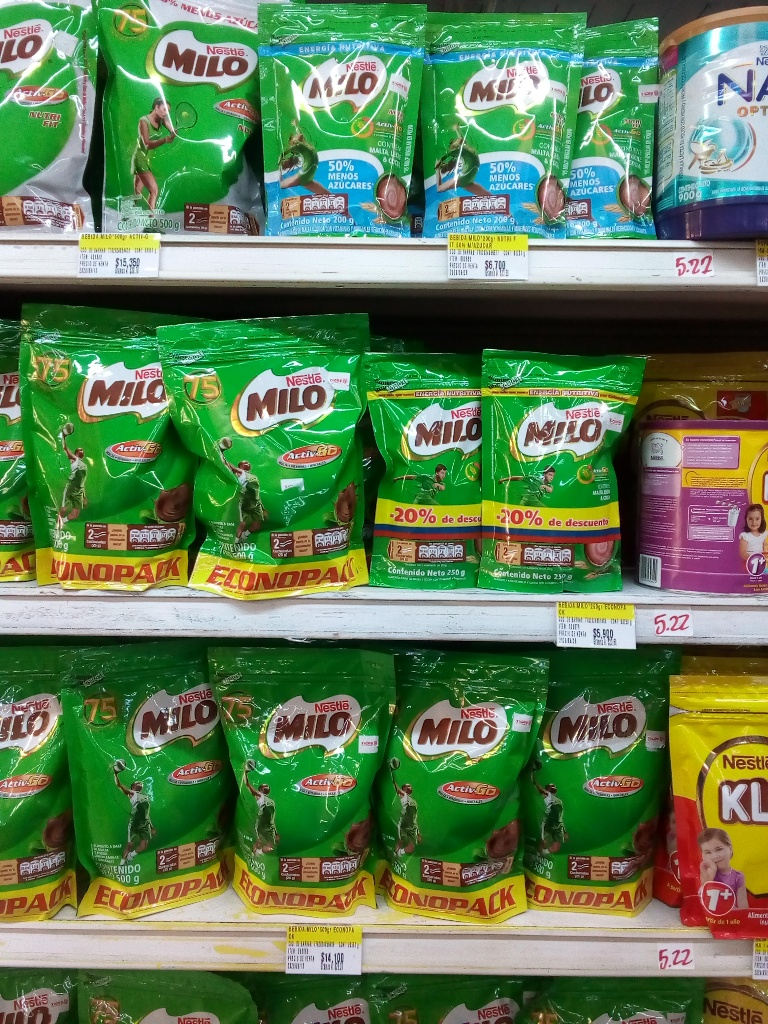COL0170203DYP25000: (481, 347, 647, 600)
COL0170203DYP50000: (57, 647, 230, 919)
COL0170205DYP20000: (260, 16, 426, 237)
COL0170205DYP50000: (94, 0, 273, 231)
